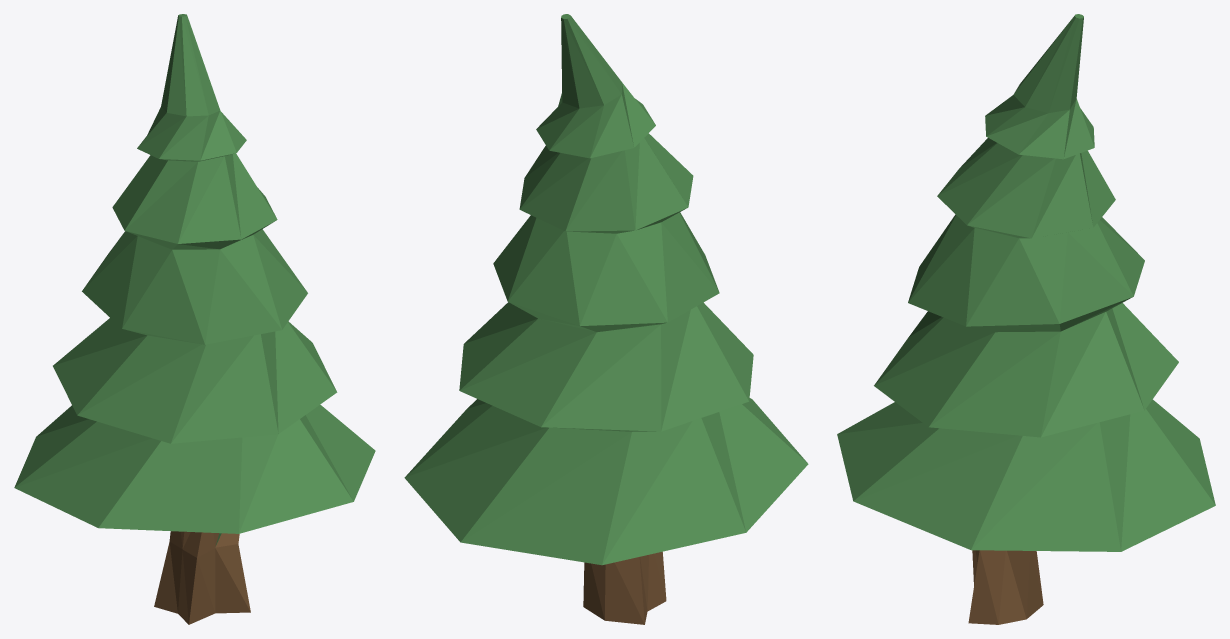
The model's file is tree3d-155.glb.
The picture shows the model from 3 angles, left to right: view 1: azimuth 30°, elevation 25°; view 2: azimuth 150°, elevation 25°; view 3: azimuth 270°, elevation 25°; orthographic projection. The views are drawn at different scales.
Visible parts, largest first — view 1: tree3d-155; view 2: tree3d-155; view 3: tree3d-155.
Part boxes in pixels (x1,y1,x2,y2): tree3d-155: [14, 14, 375, 624]; tree3d-155: [404, 14, 808, 624]; tree3d-155: [837, 14, 1215, 624].
Size of the model in its own units: 0.5743 by 1 by 0.573.
